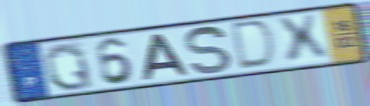6: (95, 36, 135, 87)
A: (140, 33, 192, 81)
D: (231, 18, 279, 72)
Q: (42, 41, 96, 93)
S: (183, 24, 234, 76)
X: (273, 12, 333, 66)
